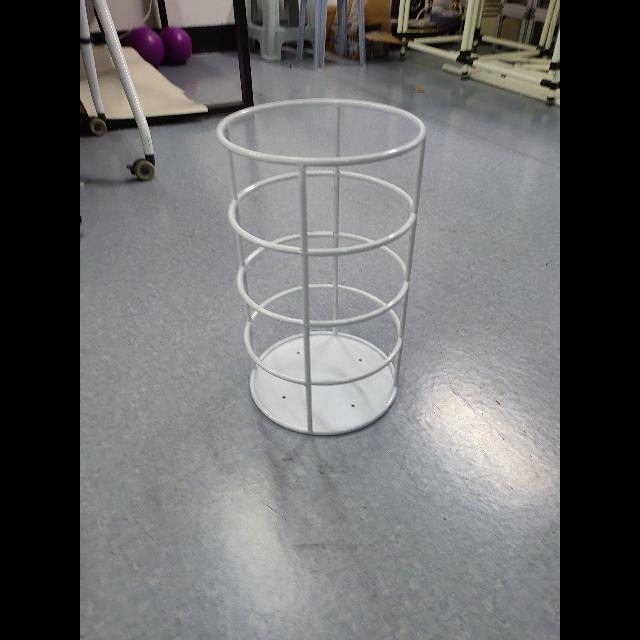S: (212, 94, 430, 438)
